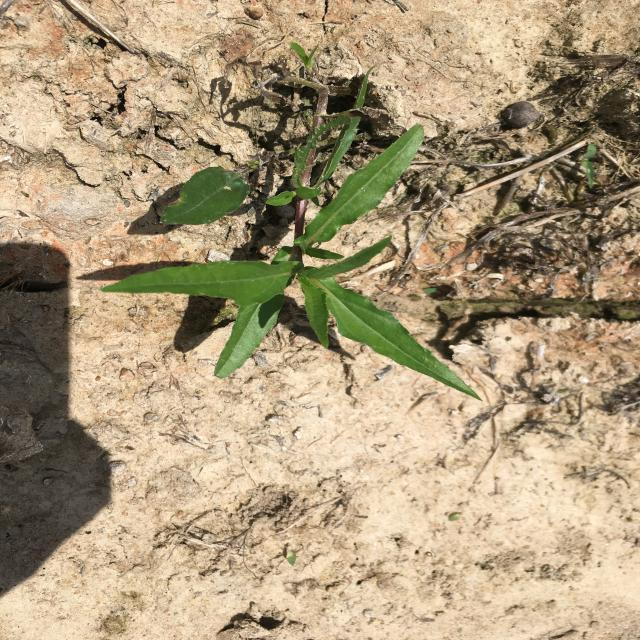Eclipta: (100, 41, 483, 401)
